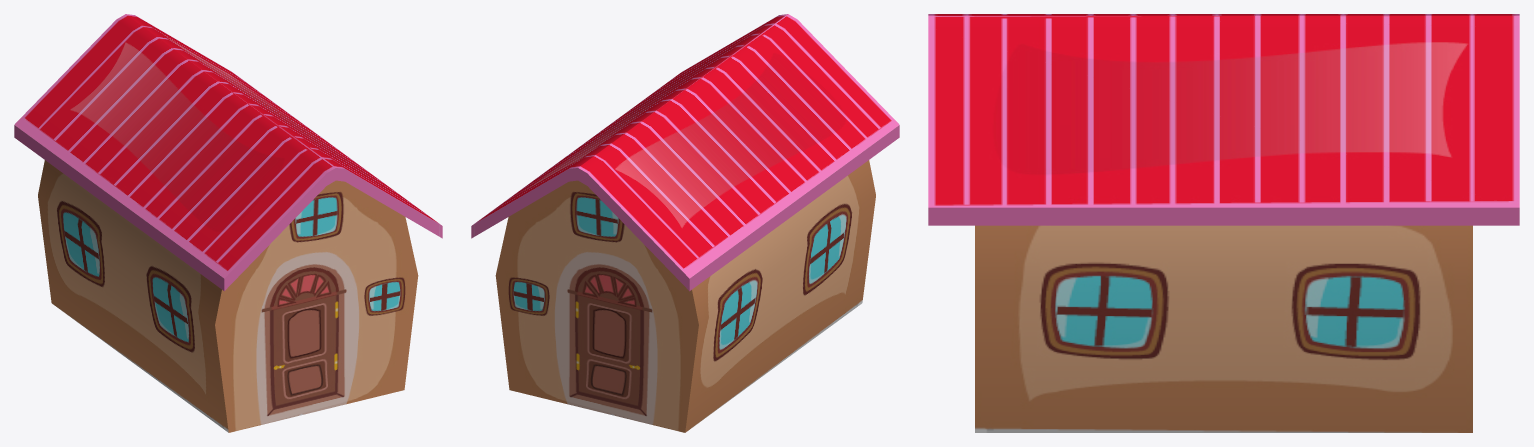
3 renders of one model, left to right at view 1: azimuth 30°, elevation 25°; view 2: azimuth 150°, elevation 25°; view 3: azimuth 270°, elevation 25°, orthographic. The views are drawn at different scales.
Parts seen in each view (by area): view 1: final:admin_20170511_1627:polySurface27; view 2: final:admin_20170511_1627:polySurface27; view 3: final:admin_20170511_1627:polySurface27.
Boxes of the visible parts, x1,y1,x2,y2 form: final:admin_20170511_1627:polySurface27: [14, 14, 442, 432]; final:admin_20170511_1627:polySurface27: [471, 14, 899, 432]; final:admin_20170511_1627:polySurface27: [928, 14, 1519, 432].
Bounding box in the file's own units: 1114 × 1243 × 1857.
